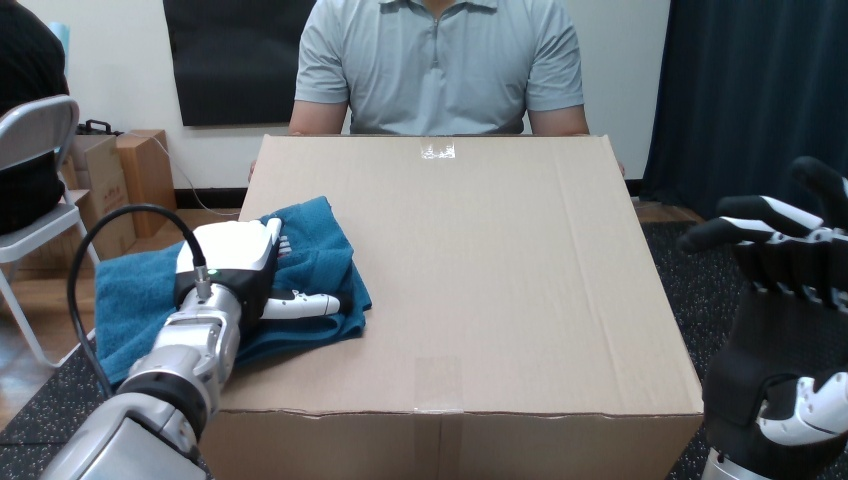left robot hand: (41, 217, 350, 479), (677, 156, 847, 312), (677, 196, 847, 312)
